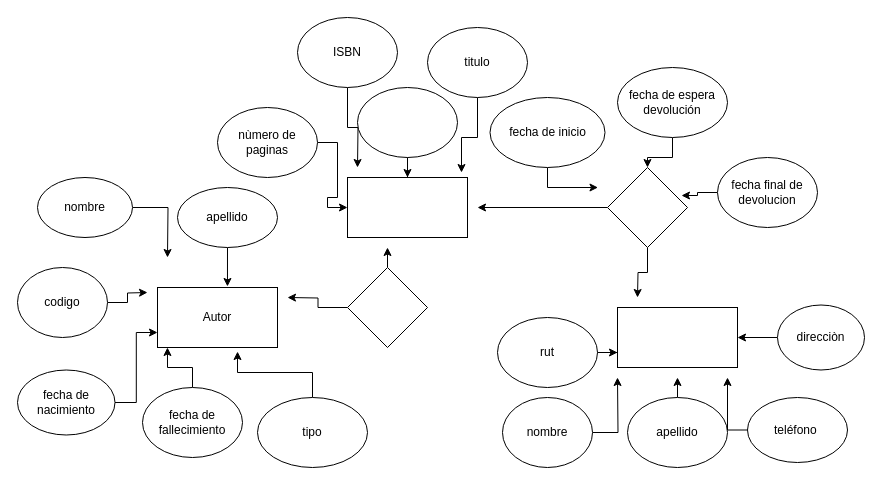
Some shapes in this 882 by 485 pixel diagram are drawn without their labels. Each missing label, with the centre of its shape:
"contenido" goes at [387,307].
"días de préstamo" goes at [407,122].
"libro" goes at [407,207].
"prestamo" goes at [647,207].
"socio" goes at [677,337].
